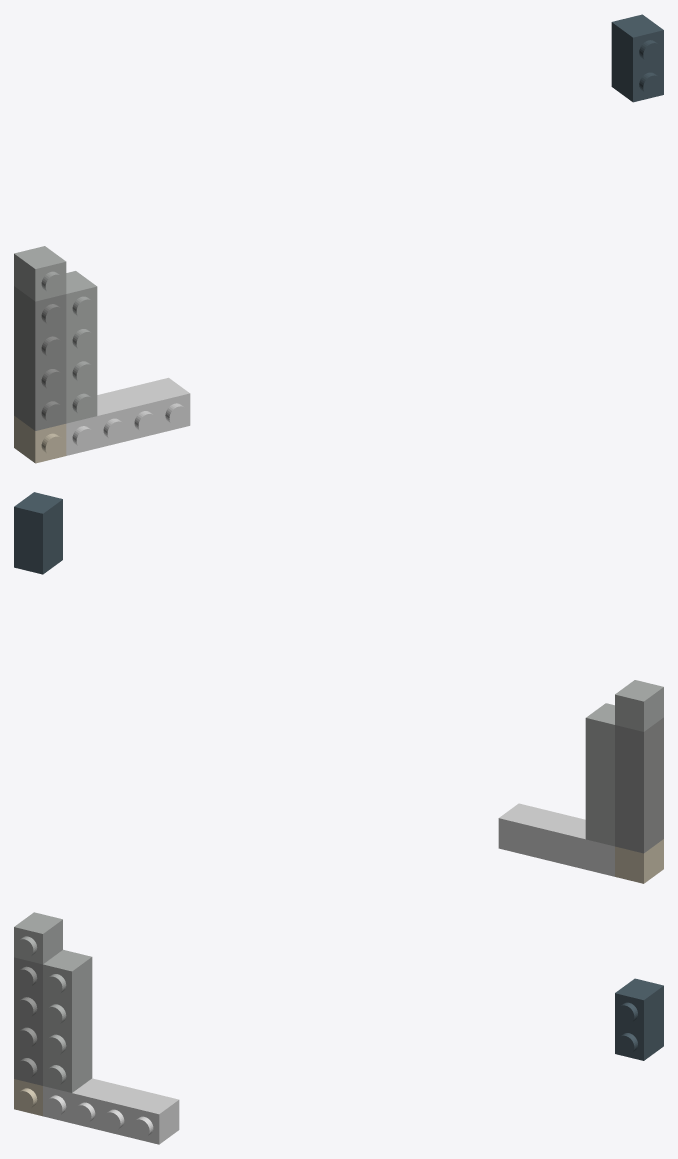
File: current.glb
3 renders of one model, top to bottom at view 1: azimuth 30°, elevation 25°; view 2: azimuth 150°, elevation 25°; view 3: azimuth 330°, elevation 25°, orthographic. The views are drawn at different scales.
Parts seen in each view (by area): view 1: world; view 2: world; view 3: world.
Boxes of the visible parts, x1,y1,x2,y2 form: world: (14, 14, 663, 463); world: (14, 492, 663, 883); world: (14, 912, 663, 1144).
Bounding box in the file's own units: 168 × 64 × 21.
